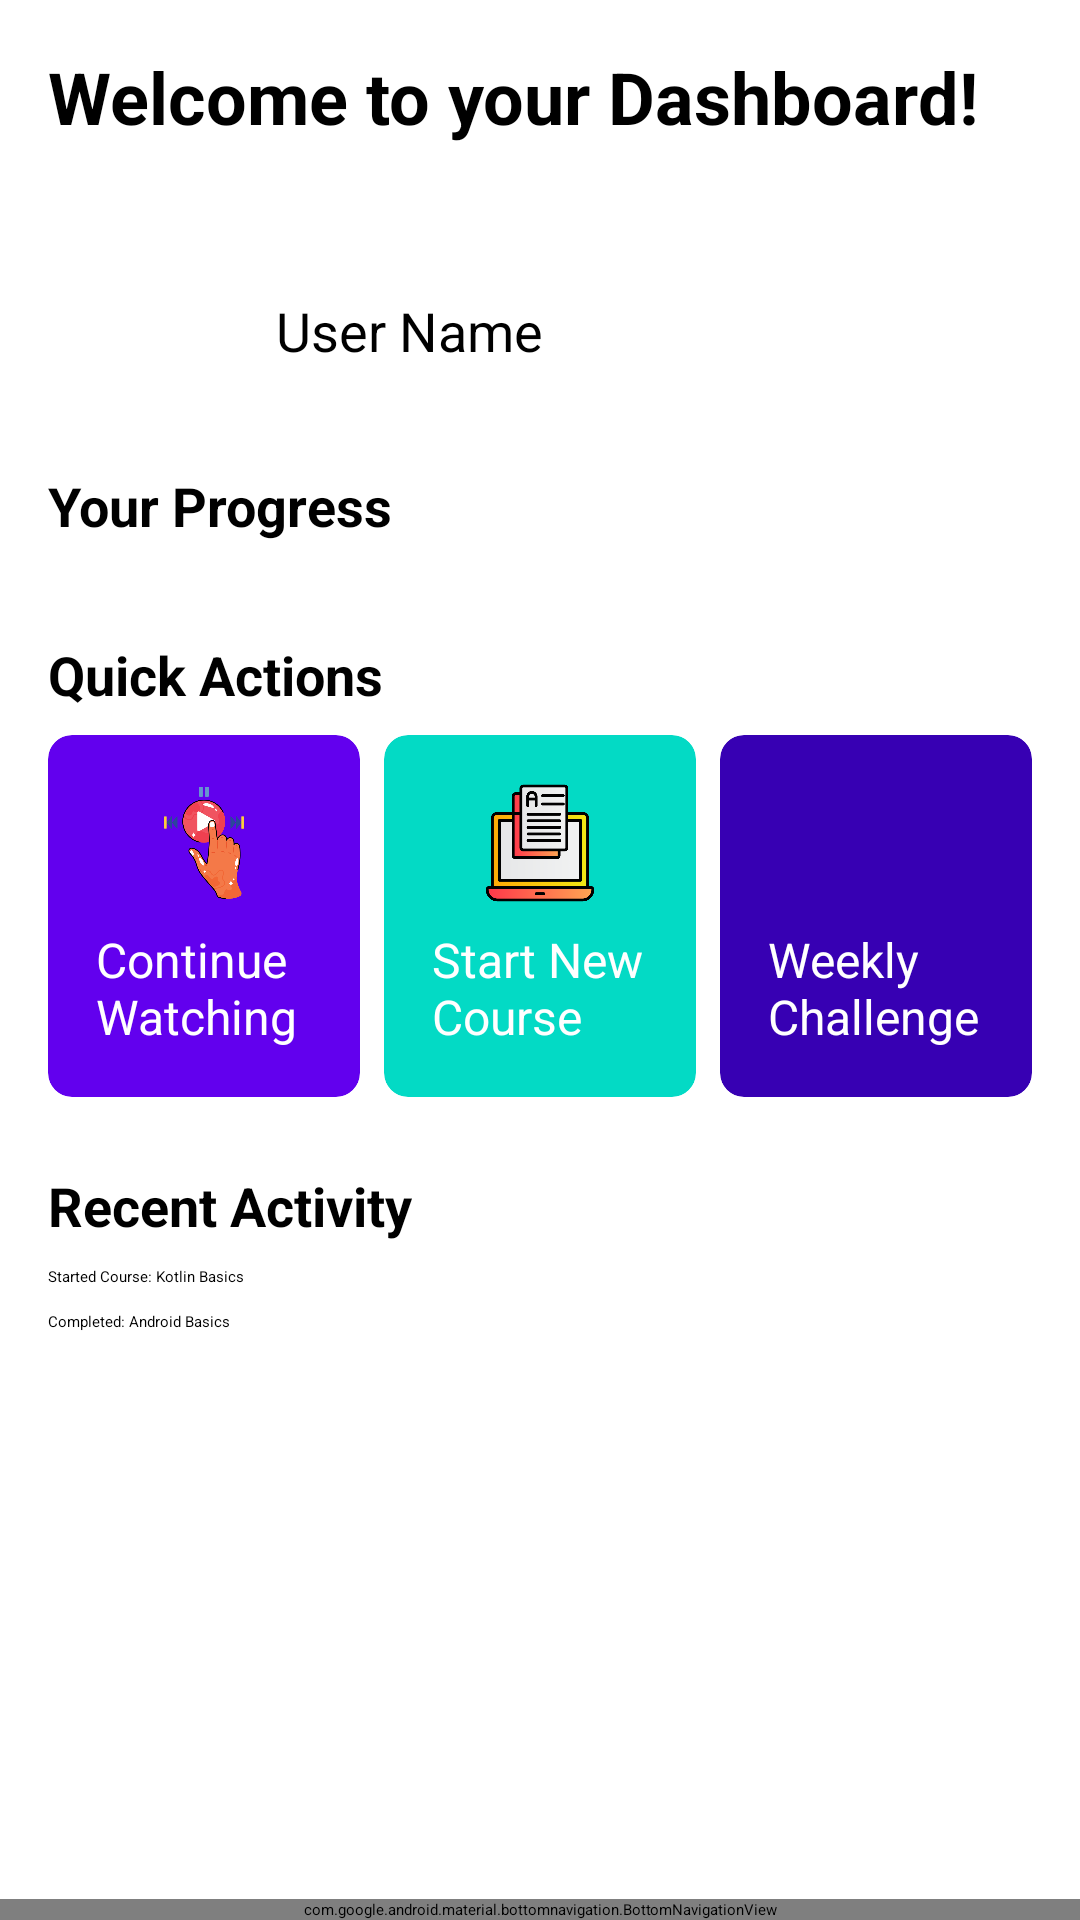

Where icons sit on this 1080w x 1920h app screen, as (x1, y1, x2, y2):
play: (164, 787, 244, 899)
